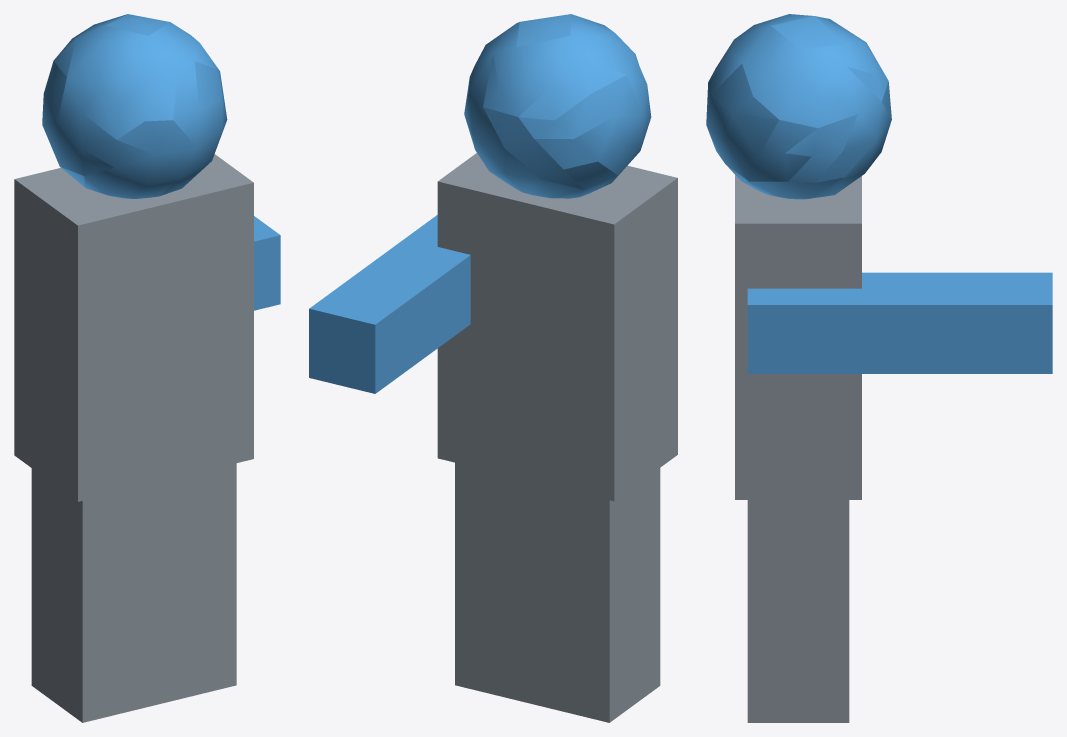
The model's file is AL_LongwatchSniper_LOD2.glb.
3 views of the same model, side by side, from view 1: azimuth 30°, elevation 25°; view 2: azimuth 150°, elevation 25°; view 3: azimuth 270°, elevation 25° (orthographic).
Visible parts, largest first — view 1: Head; view 2: Head; view 3: Head.
Boxes of the visible parts, bbox=[...] form: Head: bbox=[14, 14, 280, 722]; Head: bbox=[309, 14, 677, 722]; Head: bbox=[706, 14, 1052, 722].
Size of the model in its own units: 57 by 173 by 81.81.
